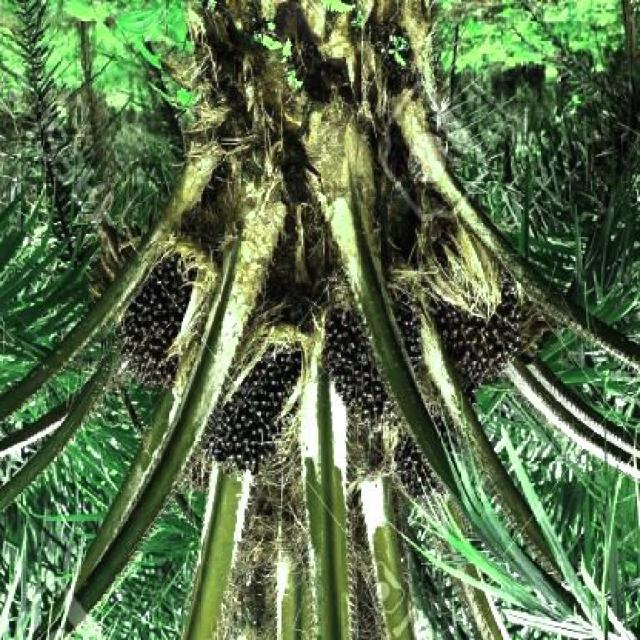palm-oil: (408, 262, 554, 386), (204, 347, 324, 482), (119, 244, 198, 388), (315, 284, 397, 417), (376, 419, 469, 502)
